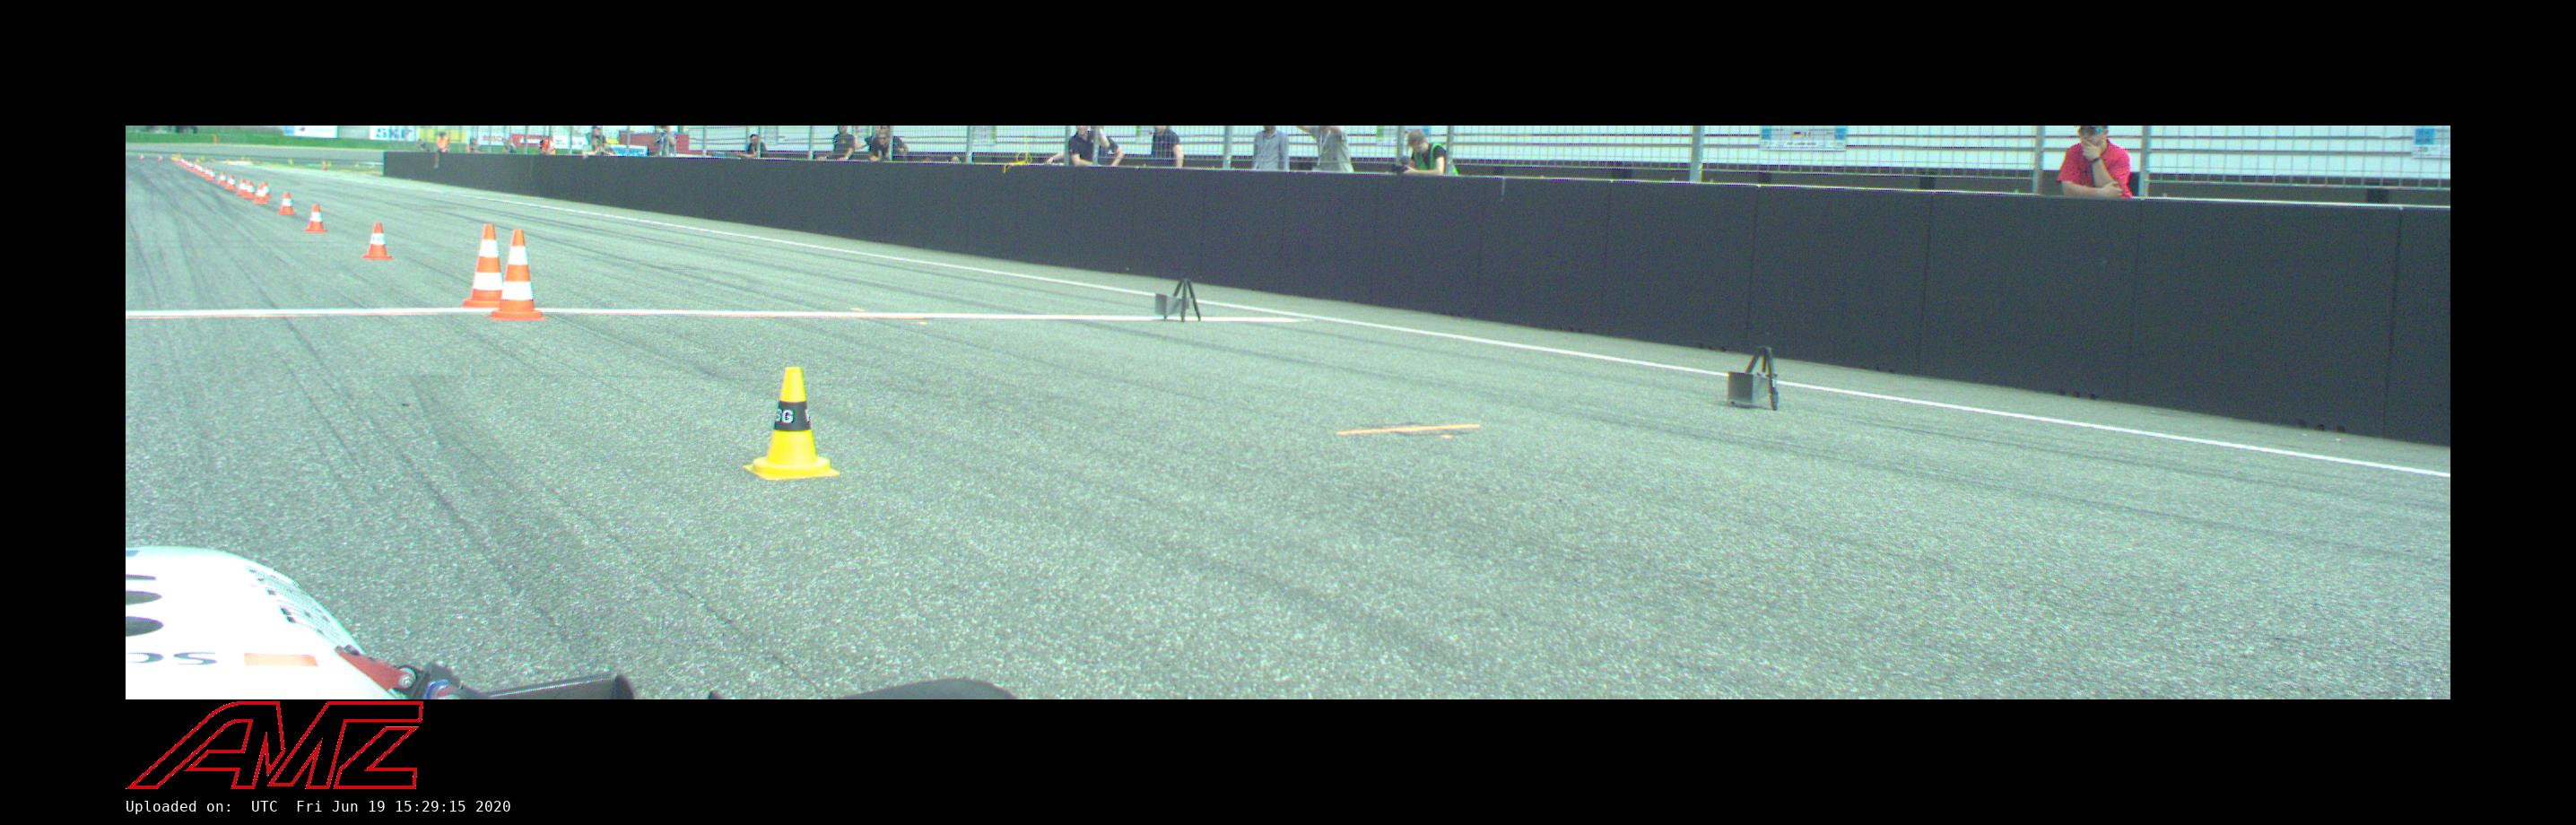large_orange_cone: (485, 228, 545, 319), (462, 224, 501, 307)
orange_cone: (363, 222, 393, 260), (306, 204, 327, 232), (278, 191, 296, 214), (255, 184, 266, 204), (245, 181, 255, 197), (227, 174, 237, 189)
yellow_cone: (743, 366, 841, 482)
